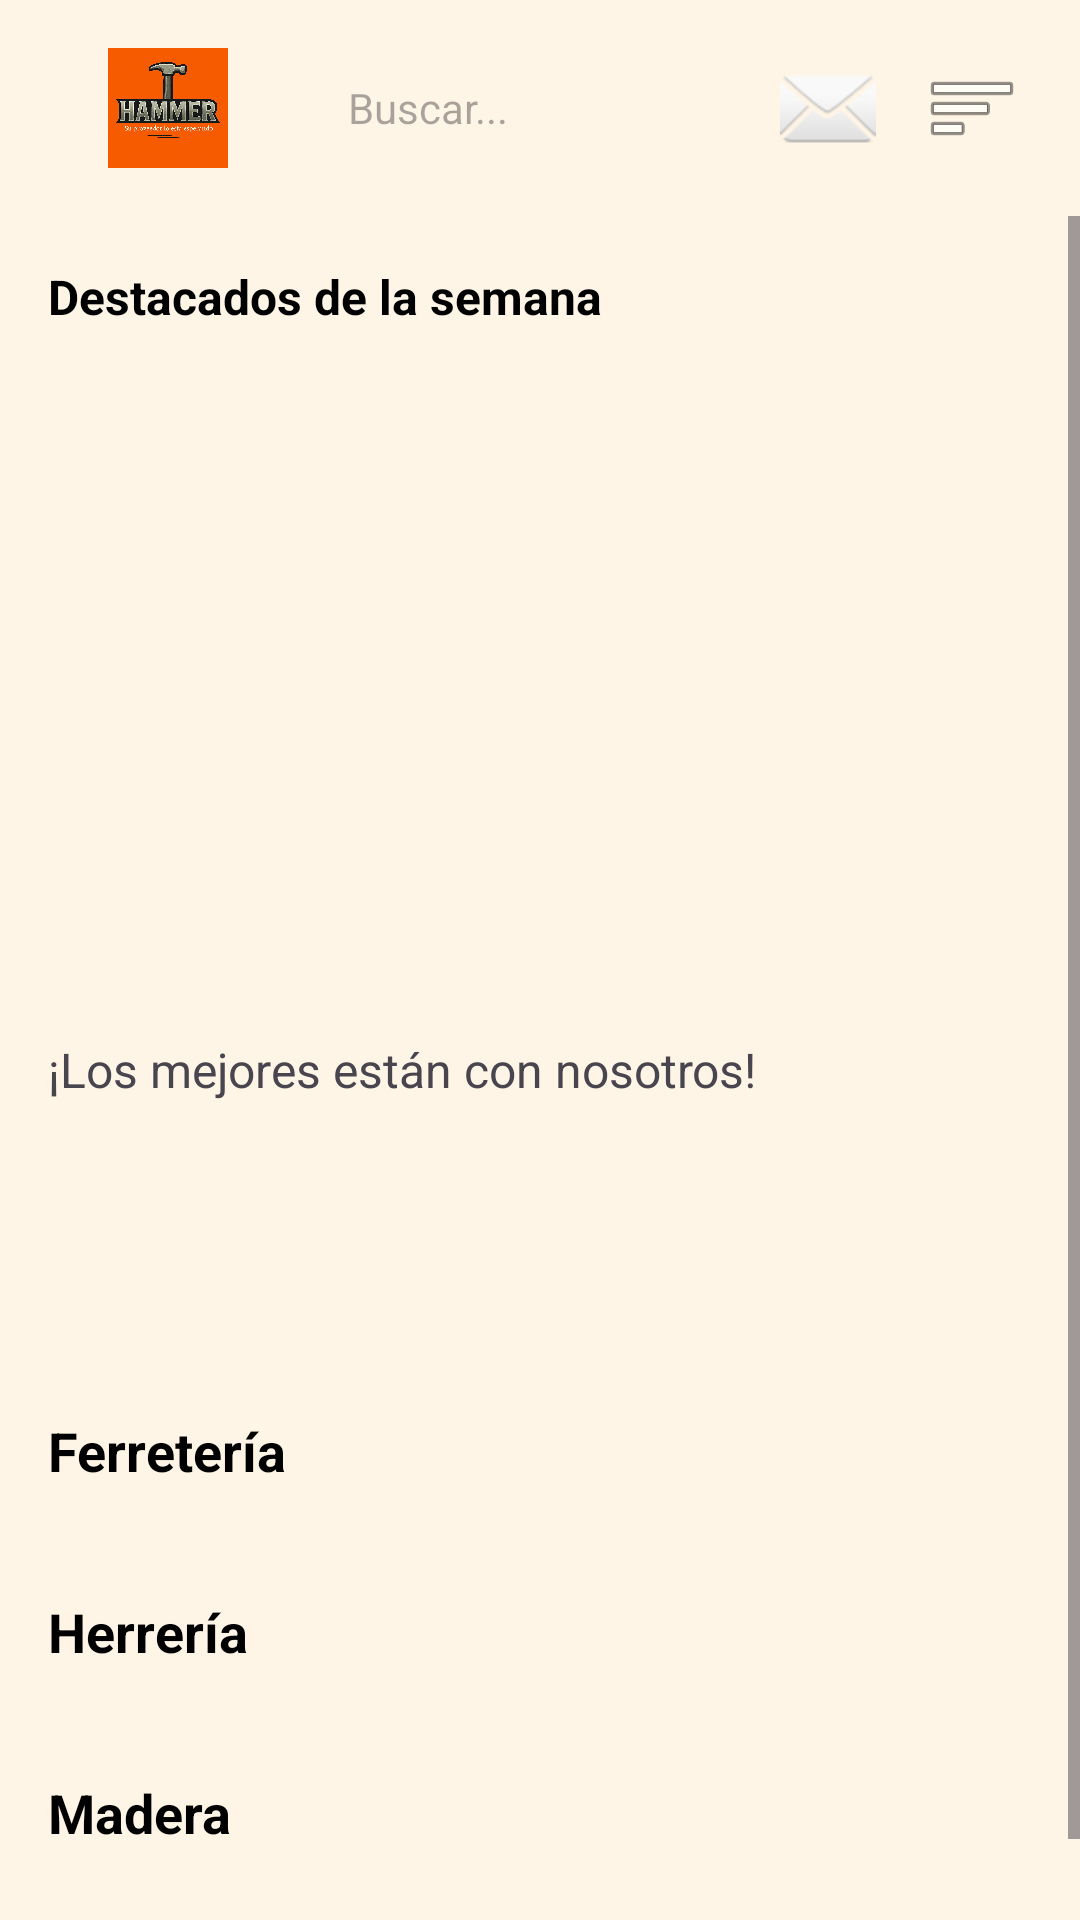

Where icons sit on this 1080px x 1920px app screen, as [x1, y1, x2, y2]:
Menú: [931, 82, 1013, 135]
Notificaciones: [780, 76, 876, 143]
